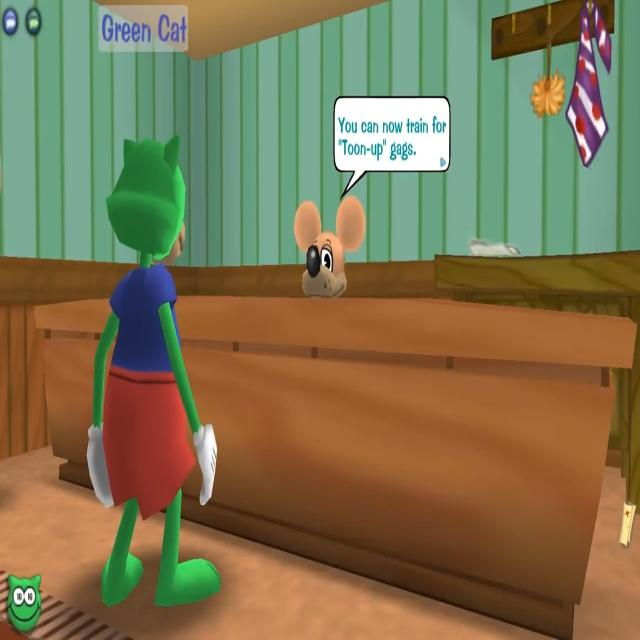npc: (304, 194, 367, 296), (294, 202, 348, 300)
